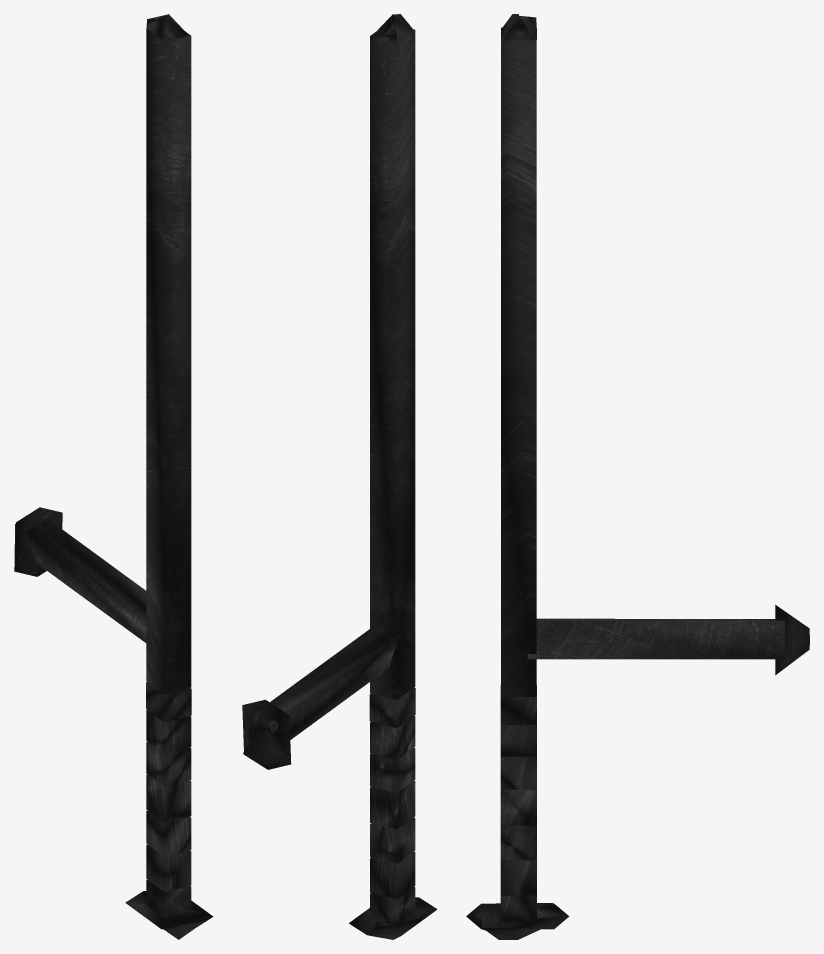
File: Baton_Mesh.fbx
3 views of the same model, side by side, from view 1: azimuth 30°, elevation 25°; view 2: azimuth 150°, elevation 25°; view 3: azimuth 270°, elevation 25° (orthographic).
Visible parts, largest first — view 1: Main_Body_Top; view 2: Main_Body_Top; view 3: Main_Body_Top.
Part boxes in pixels (<box>): Main_Body_Top: <box>14,14,213,939</box>; Main_Body_Top: <box>242,14,437,939</box>; Main_Body_Top: <box>466,14,809,939</box>.
Size of the model in its own units: 3.97 by 65.87 by 22.22.
